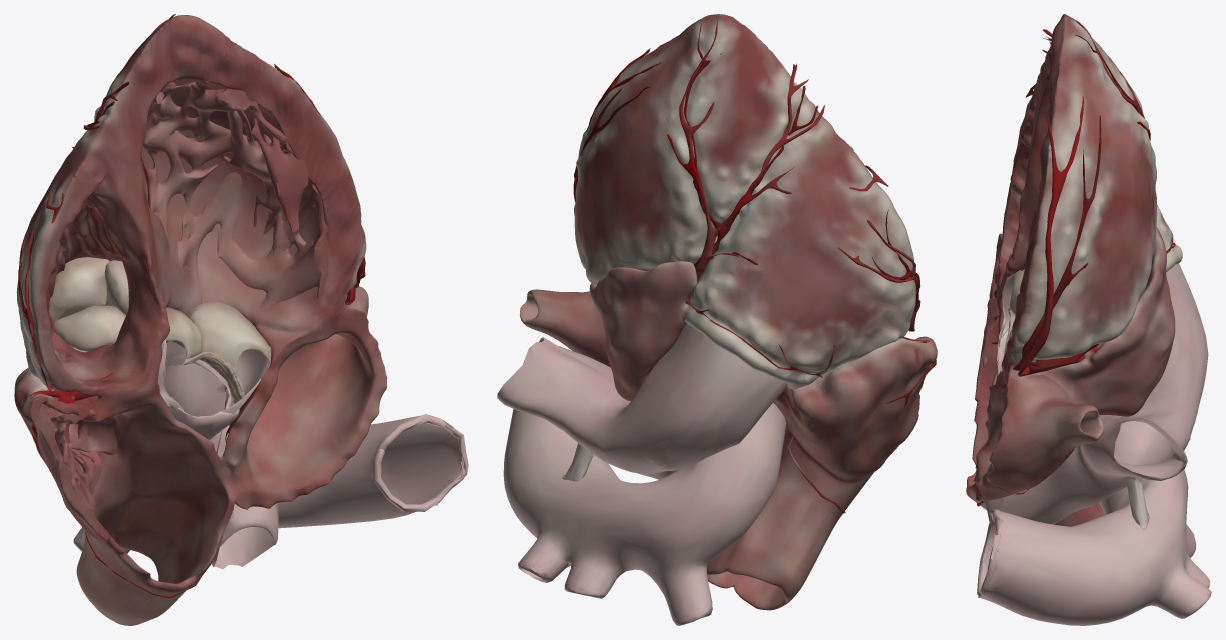
File: cardiac_anatomy_apical_5_chamber_echo_plane.glb
3 views of the same model, side by side, from view 1: azimuth 30°, elevation 25°; view 2: azimuth 150°, elevation 25°; view 3: azimuth 270°, elevation 25° (orthographic). The views are drawn at different scales.
Parts seen in each view (by area): view 1: Object_21, Object_20, Object_19, Object_18, Object_17, Object_9, Object_10, Object_7, Object_14, Object_13, Object_4, Object_3 (+2 smaller); view 2: Object_21, Object_19, Object_14, Object_15, Object_23, Object_5, Object_3; view 3: Object_21, Object_19, Object_14, Object_11, Object_23, Object_4, Object_5, Object_15, Object_18, Object_13, Object_17.
Boxes of the visible parts, x1,y1,x2,y2 form: Object_21: [14, 15, 387, 625]; Object_20: [141, 80, 328, 308]; Object_19: [73, 355, 463, 553]; Object_18: [165, 301, 271, 403]; Object_17: [41, 404, 118, 510]; Object_9: [49, 257, 109, 321]; Object_10: [251, 118, 308, 231]; Object_7: [54, 305, 125, 351]; Object_14: [73, 348, 278, 569]; Object_13: [156, 339, 270, 414]; Object_4: [100, 372, 468, 511]; Object_3: [31, 193, 464, 598]; Object_21: [519, 14, 937, 610]; Object_19: [503, 403, 786, 625]; Object_14: [497, 323, 787, 479]; Object_15: [667, 21, 930, 512]; Object_23: [574, 23, 818, 267]; Object_5: [562, 220, 920, 481]; Object_3: [626, 54, 936, 513]; Object_21: [966, 14, 1182, 526]; Object_19: [979, 329, 1211, 625]; Object_14: [999, 263, 1208, 524]; Object_11: [1013, 96, 1084, 376]; Object_23: [1022, 35, 1133, 373]; Object_4: [977, 472, 1049, 597]; Object_5: [1126, 477, 1149, 529]; Object_15: [1042, 20, 1175, 253]; Object_18: [1003, 269, 1024, 358]; Object_13: [999, 274, 1013, 373]; Object_17: [983, 280, 999, 367].
Bounding box in the file's own units: 118 × 156 × 60.92.
